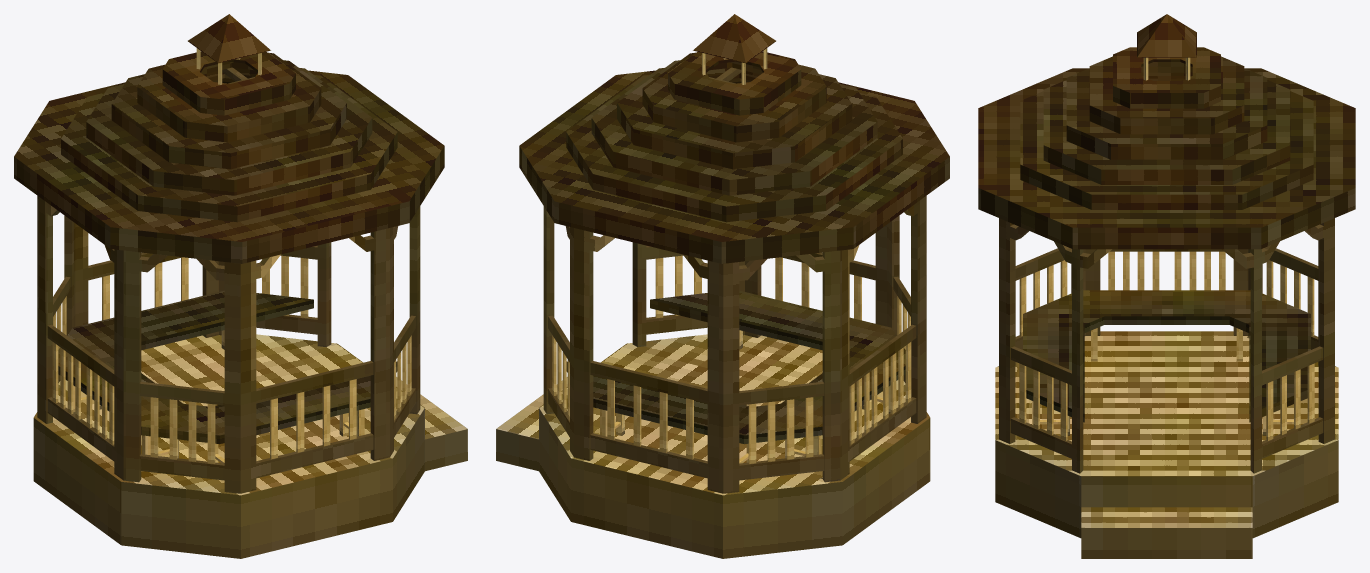
The model's file is Gazebo.fbx.
3 views of the same model, side by side, from view 1: azimuth 30°, elevation 25°; view 2: azimuth 150°, elevation 25°; view 3: azimuth 270°, elevation 25° (orthographic). The views are drawn at different scales.
Visible parts, largest first — view 1: Gazebo; view 2: Gazebo; view 3: Gazebo.
Part boxes in pixels (x1,y1,x2,y2): Gazebo: (14,14,467,558); Gazebo: (496,14,949,558); Gazebo: (978,14,1355,558).
Size of the model in its own units: 238 by 291 by 220.
1 material, 1 textured.
